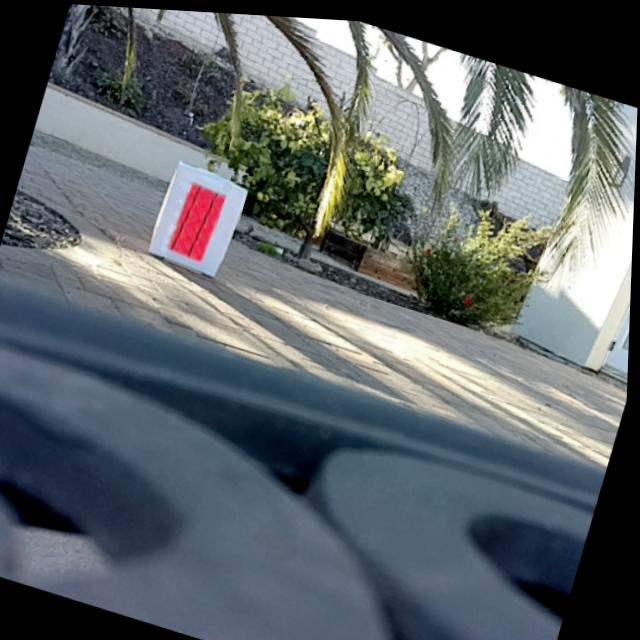led: (168, 177, 229, 263)
